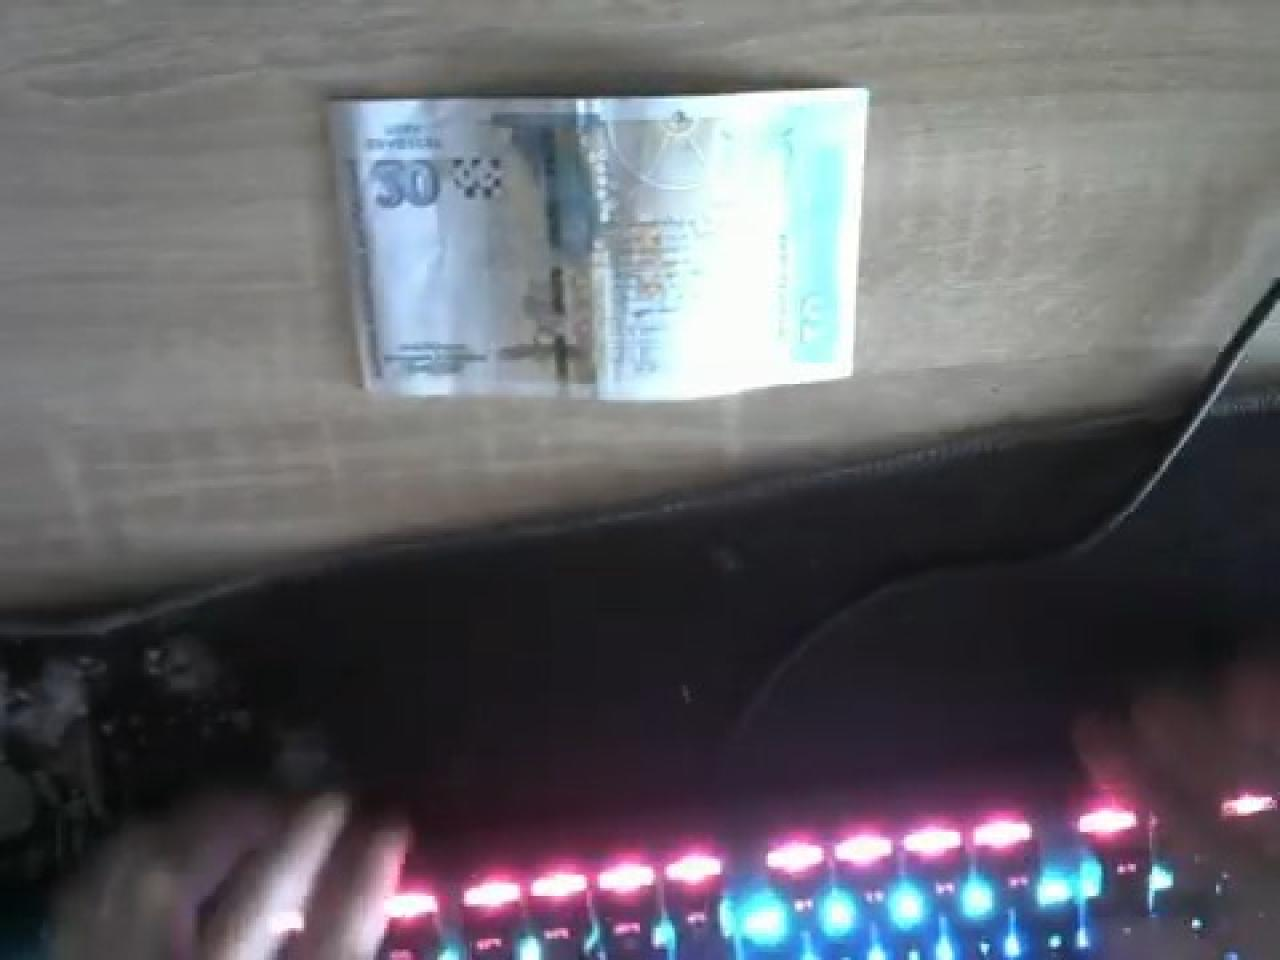20leva: (323, 94, 562, 397)
